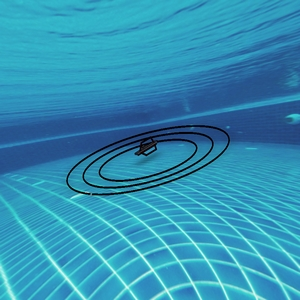circle: (60, 116, 256, 204)
submarine: (138, 137, 157, 153)
